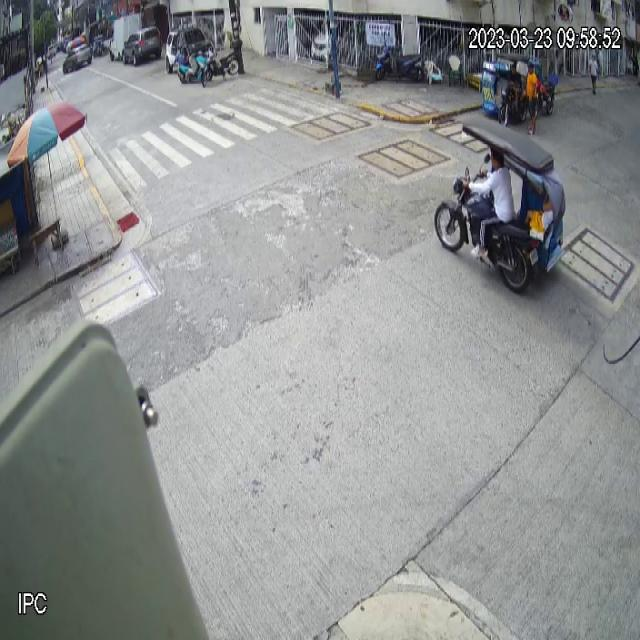Tricycle: (433, 117, 568, 294), (479, 52, 531, 125)
